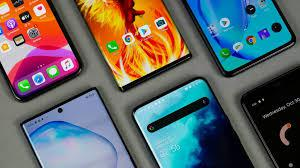Smartphone: (137, 98, 251, 168), (76, 0, 181, 72), (184, 0, 284, 73), (1, 2, 77, 90), (26, 106, 128, 168), (244, 76, 300, 168)
